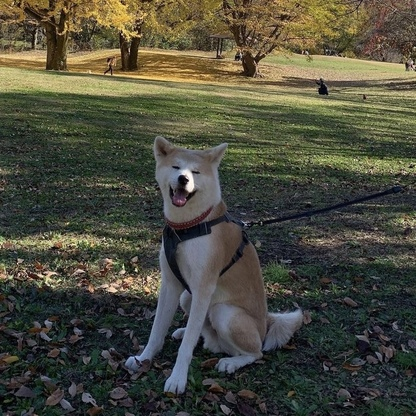akita: (118, 130, 308, 402)
